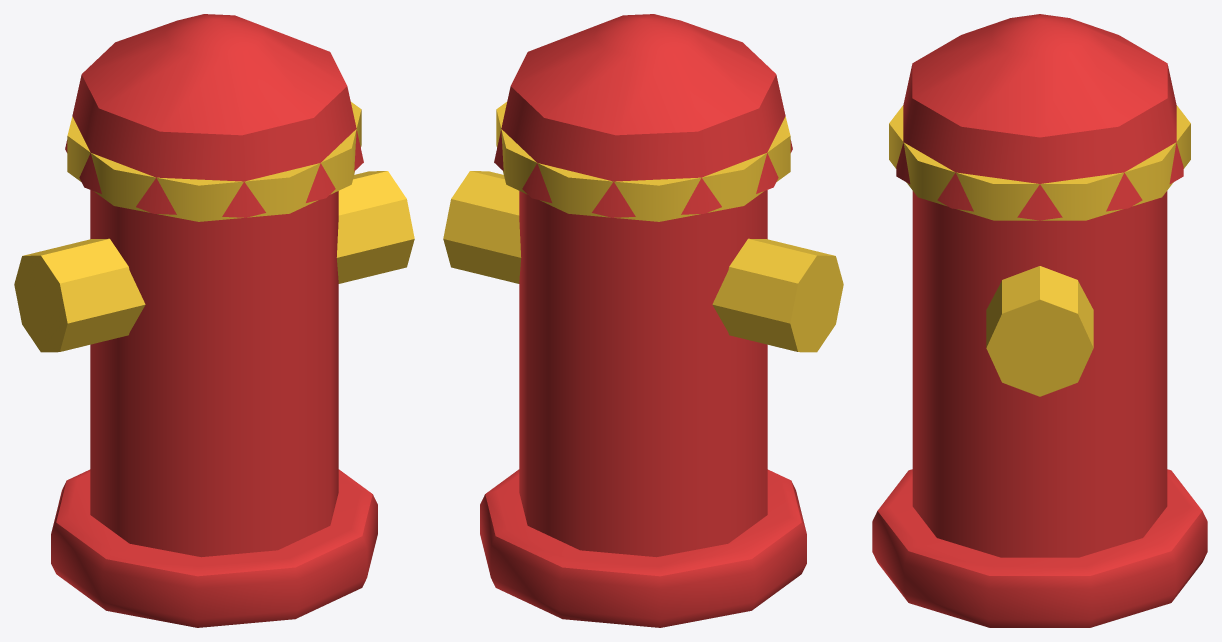
The model's file is FireHydrant.fbx.
3 renders of one model, left to right at view 1: azimuth 30°, elevation 25°; view 2: azimuth 150°, elevation 25°; view 3: azimuth 270°, elevation 25°, orthographic.
Parts seen in each view (by area): view 1: FireHydrant; view 2: FireHydrant; view 3: FireHydrant.
Part boxes in pixels (x1=…): FireHydrant: x1=14, y1=14, x2=414, y2=627; FireHydrant: x1=443, y1=14, x2=843, y2=627; FireHydrant: x1=872, y1=14, x2=1207, y2=627.
Bounding box in the file's own units: 1.2 × 1.8 × 1.
1 material, 1 textured.
